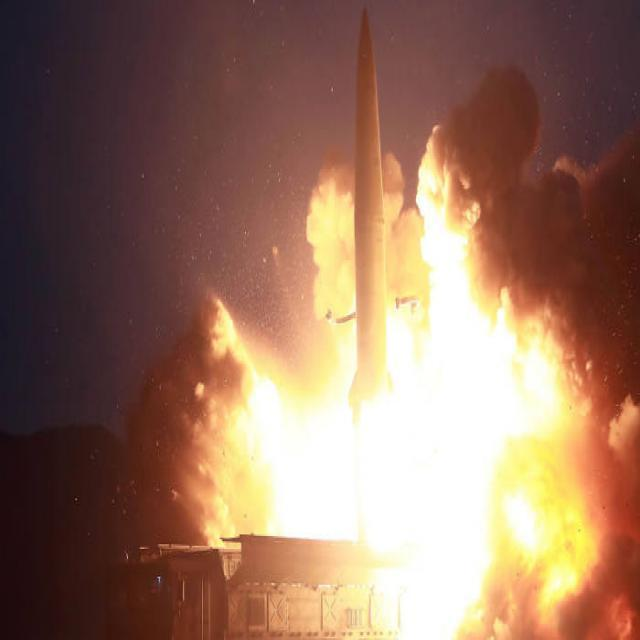Missile: (334, 0, 401, 403)
